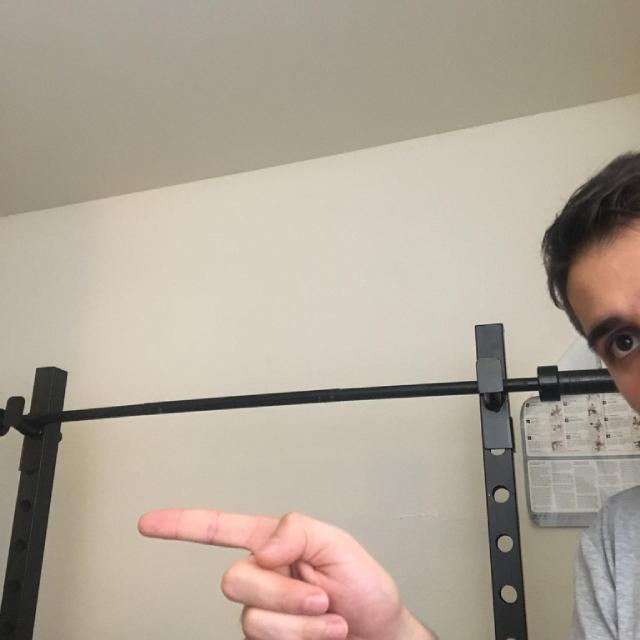G: (135, 410, 494, 640)
